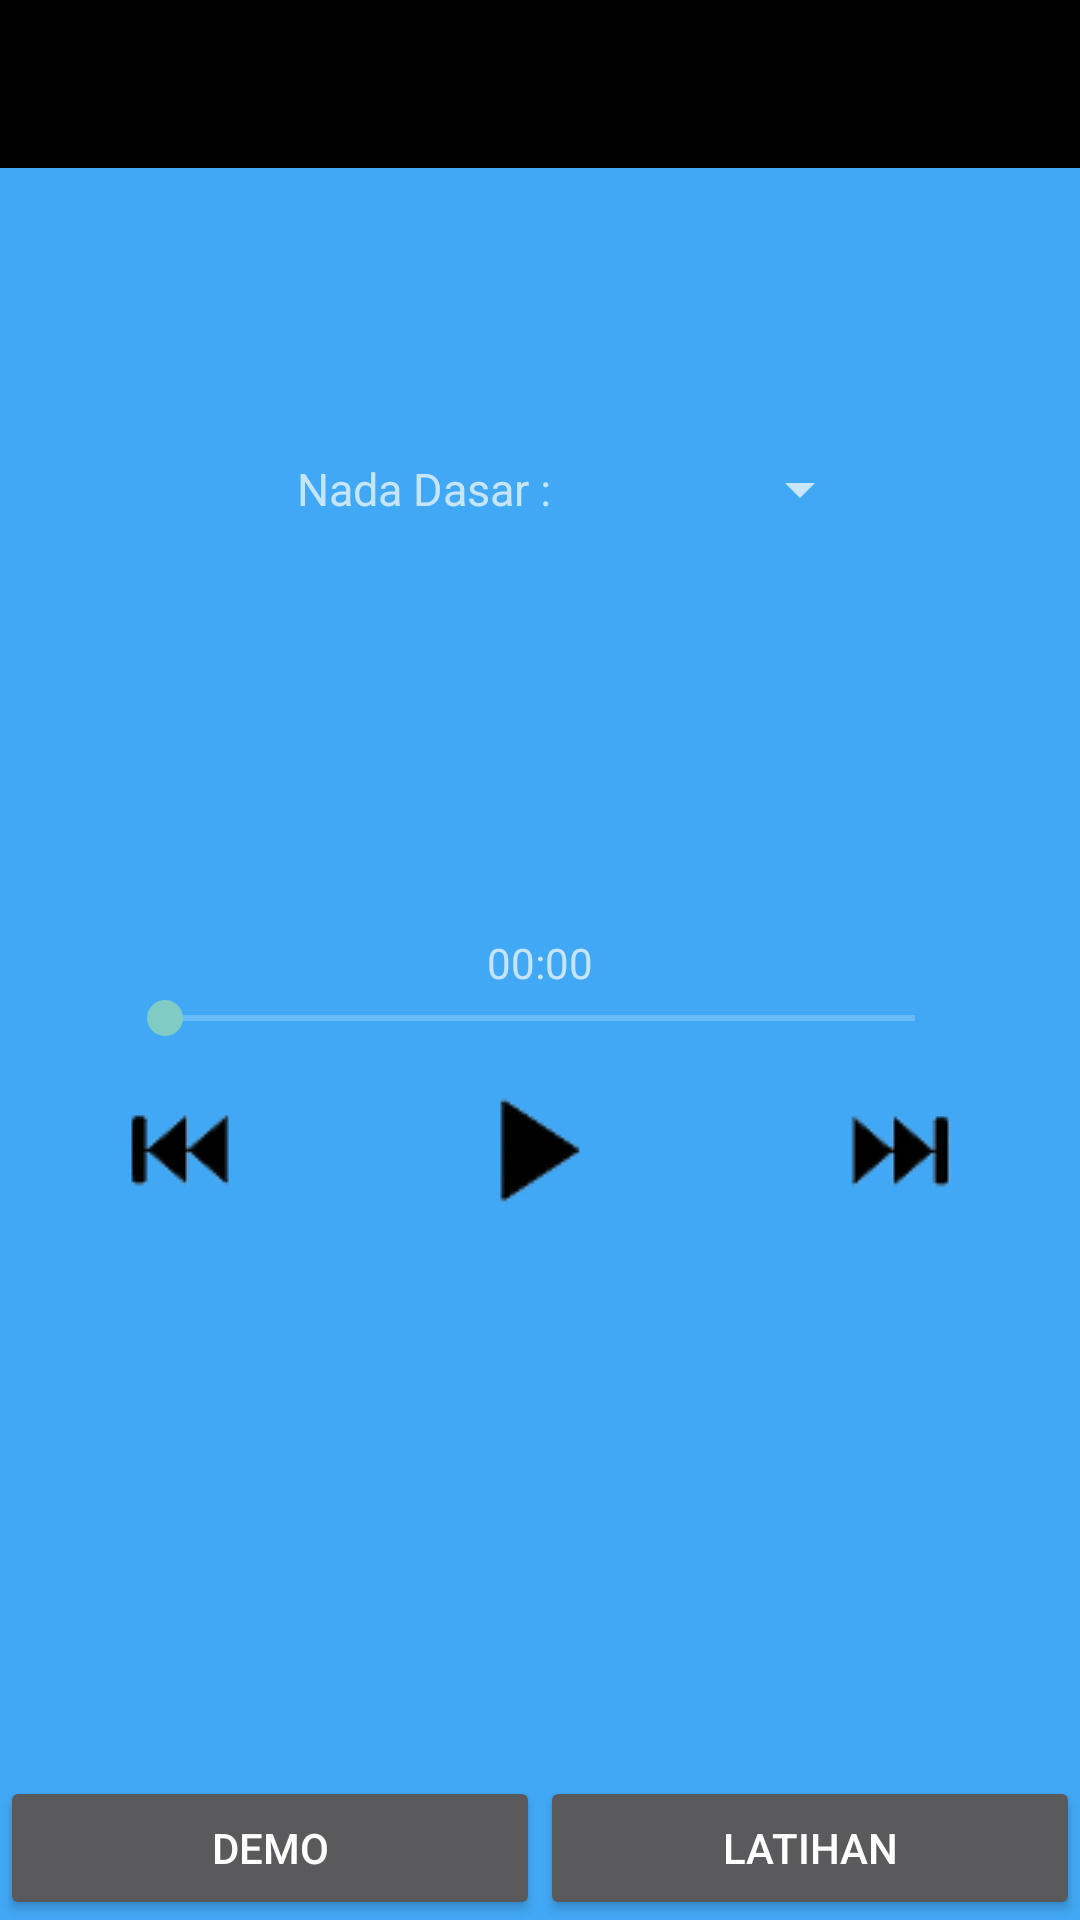

Named icons in this screenshot (1080×1920) and their centers, (x,y):
nextbutton: (900,1151)
playbutton: (540,1150)
prevbutton: (180,1150)
